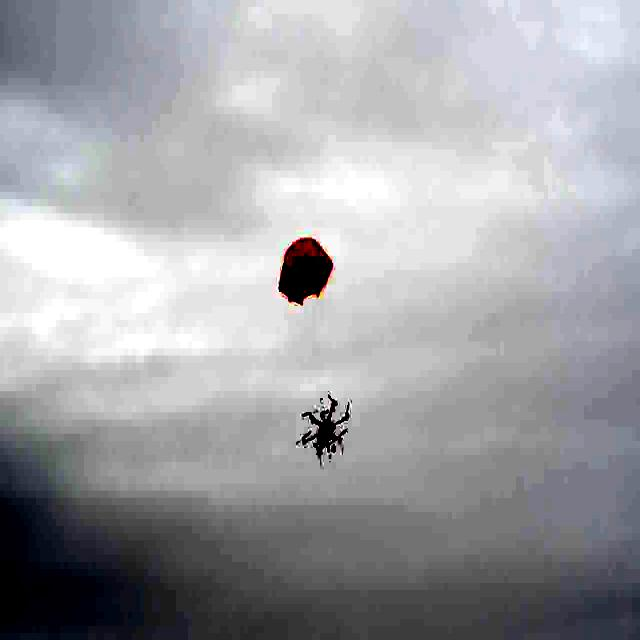drone: (298, 394, 352, 462)
